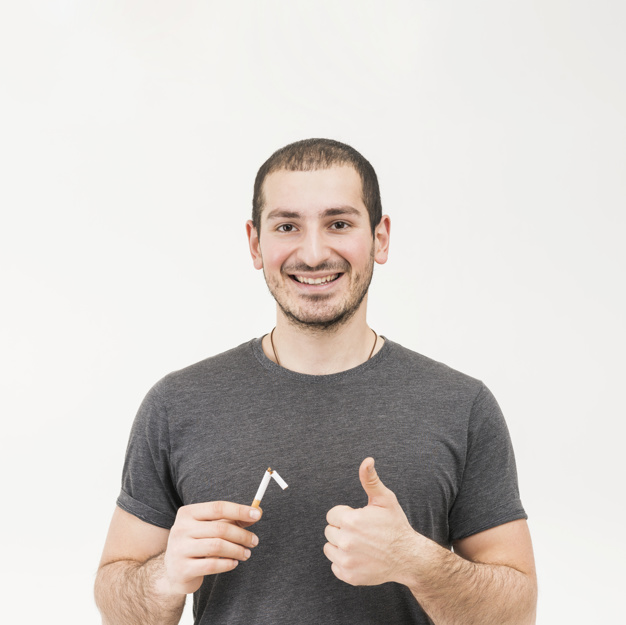thumbsup: (323, 456, 387, 585)
